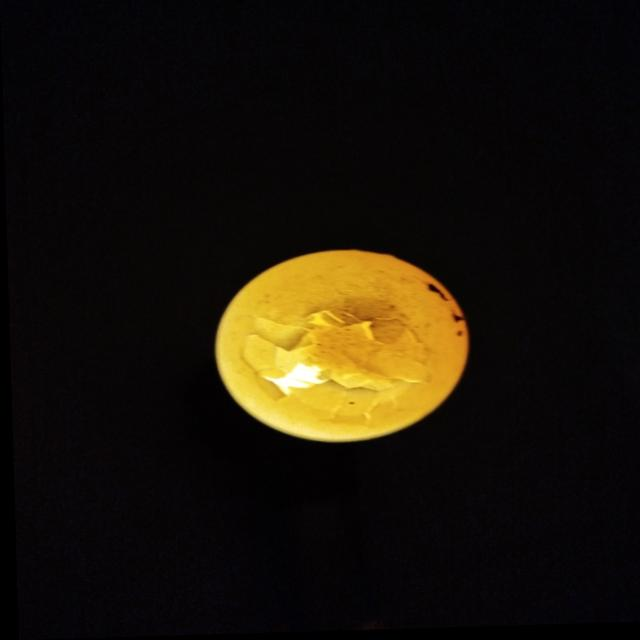Rachadura: (244, 307, 428, 422)
